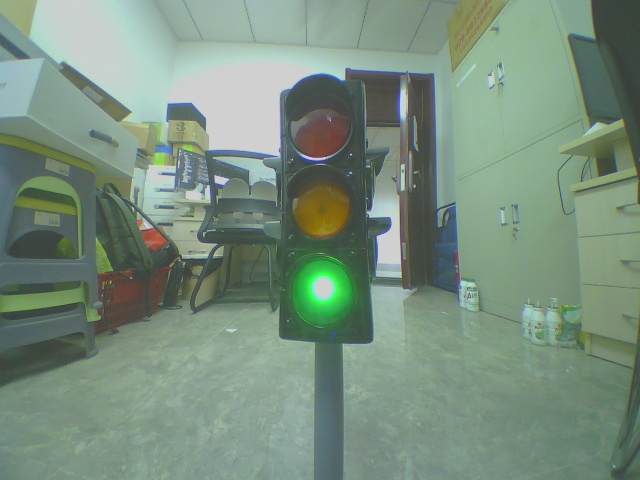Green: (249, 64, 419, 373)
